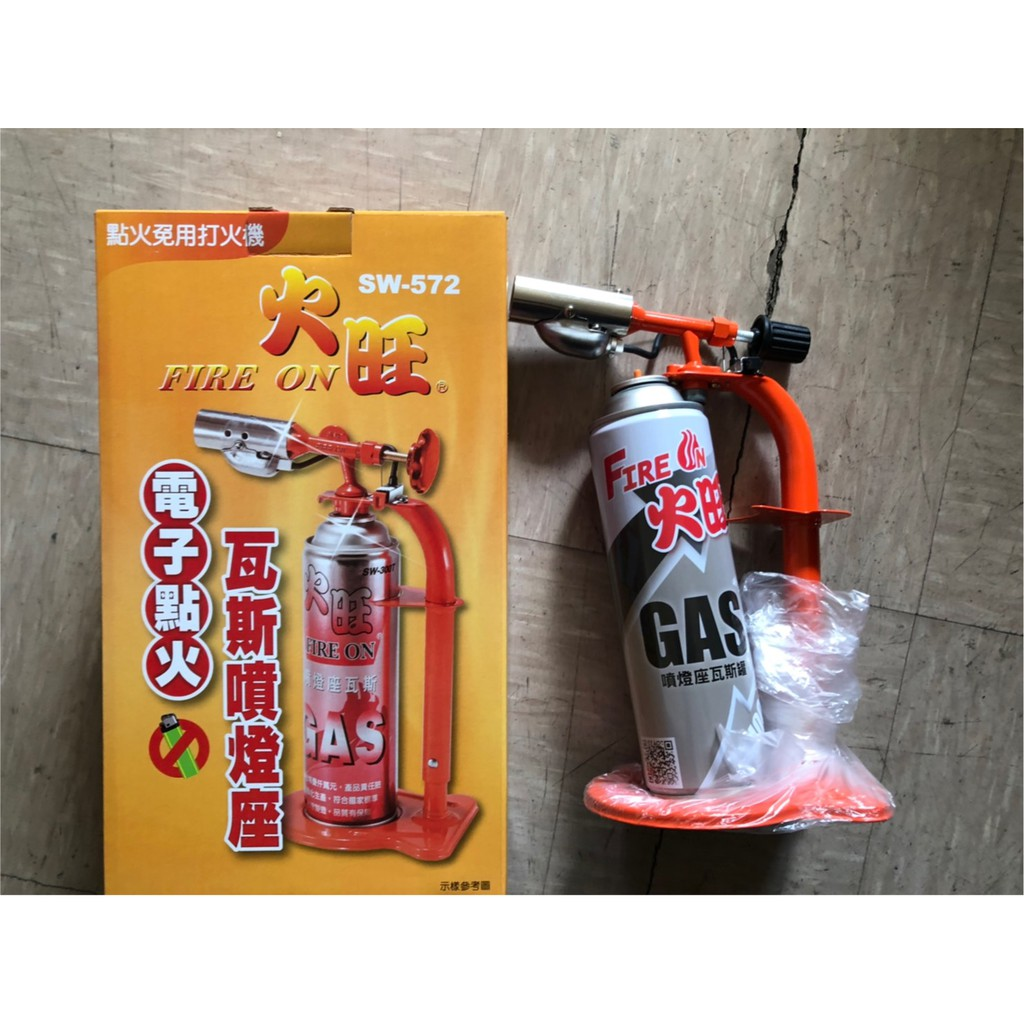gastorch: (506, 267, 902, 835), (189, 400, 489, 867)
